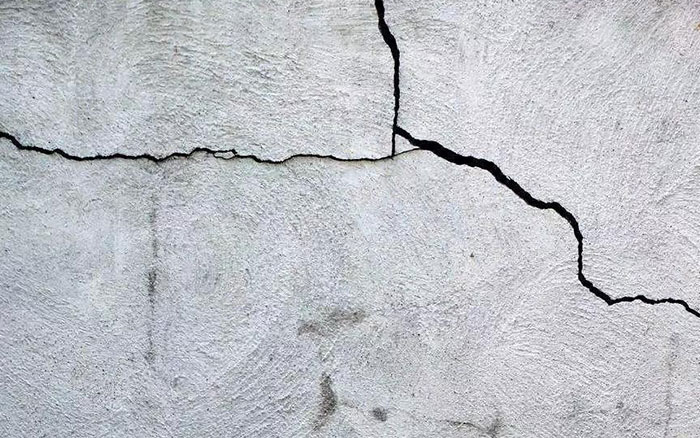crack: (1, 125, 387, 180)
